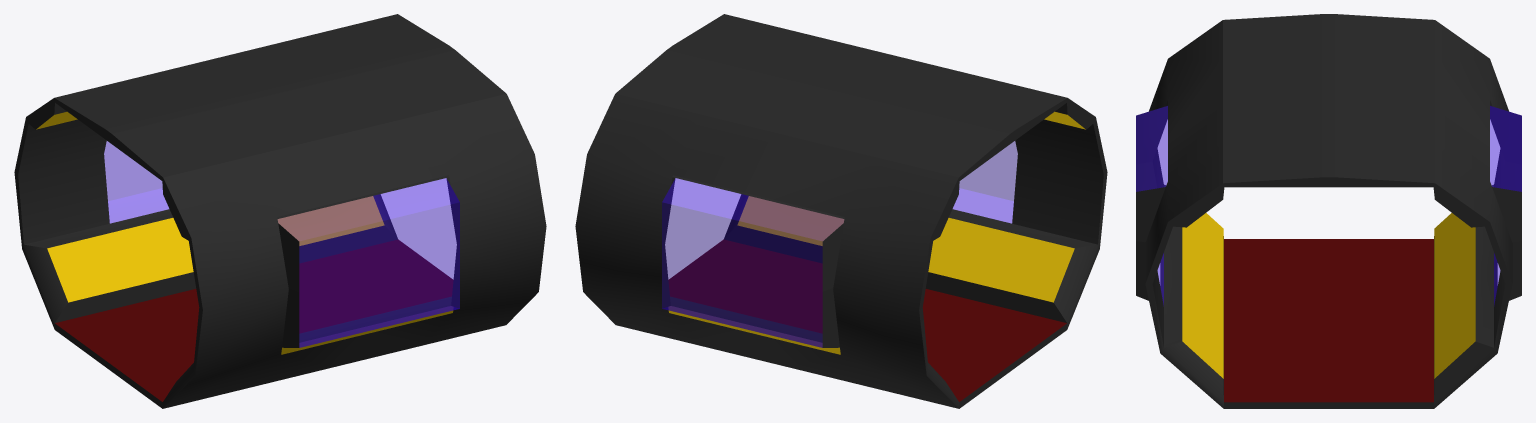
Rendered from Corridore_01HummingBird.fbx.
The picture shows the model from 3 angles, left to right: view 1: azimuth 30°, elevation 25°; view 2: azimuth 150°, elevation 25°; view 3: azimuth 270°, elevation 25°; orthographic projection. The views are drawn at different scales.
Visible parts, largest first — view 1: Corridore_01; view 2: Corridore_01; view 3: Corridore_01.
Part boxes in pixels (bbox=[...]): Corridore_01: bbox=[14, 14, 546, 408]; Corridore_01: bbox=[575, 14, 1107, 408]; Corridore_01: bbox=[1136, 14, 1521, 408].
Bounding box in the file's own units: 547 × 362 × 546.
